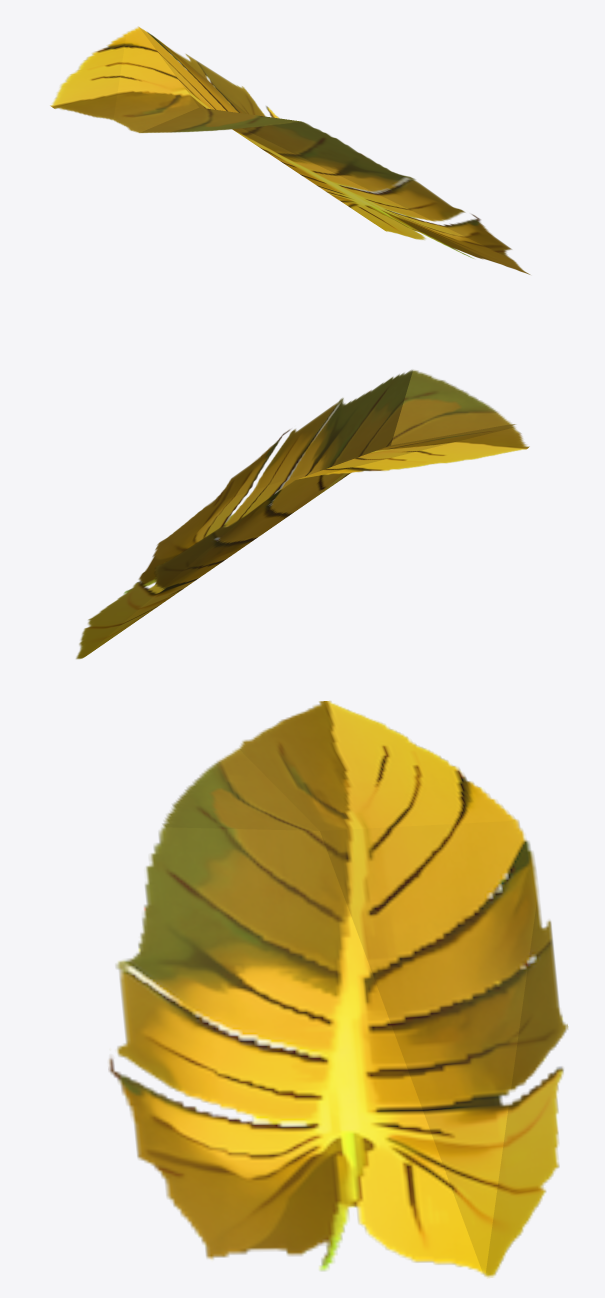
Rendered from WPlant_3_Leaf_2.gltf.
The picture shows the model from 3 angles, top to bottom: view 1: azimuth 30°, elevation 25°; view 2: azimuth 150°, elevation 25°; view 3: azimuth 270°, elevation 25°; orthographic projection. The views are drawn at different scales.
Parts seen in each view (by area): view 1: WPlant_3_Leaf_2; view 2: WPlant_3_Leaf_2; view 3: WPlant_3_Leaf_2.
Boxes of the visible parts, x1=… form: WPlant_3_Leaf_2: x1=50, y1=26, x2=530, y2=274; WPlant_3_Leaf_2: x1=76, y1=370, x2=529, y2=658; WPlant_3_Leaf_2: x1=108, y1=701, x2=568, y2=1277.
Bounding box in the file's own units: 1.11 × 0.6687 × 0.9691.
Materials: 1 (1 with a texture image).
